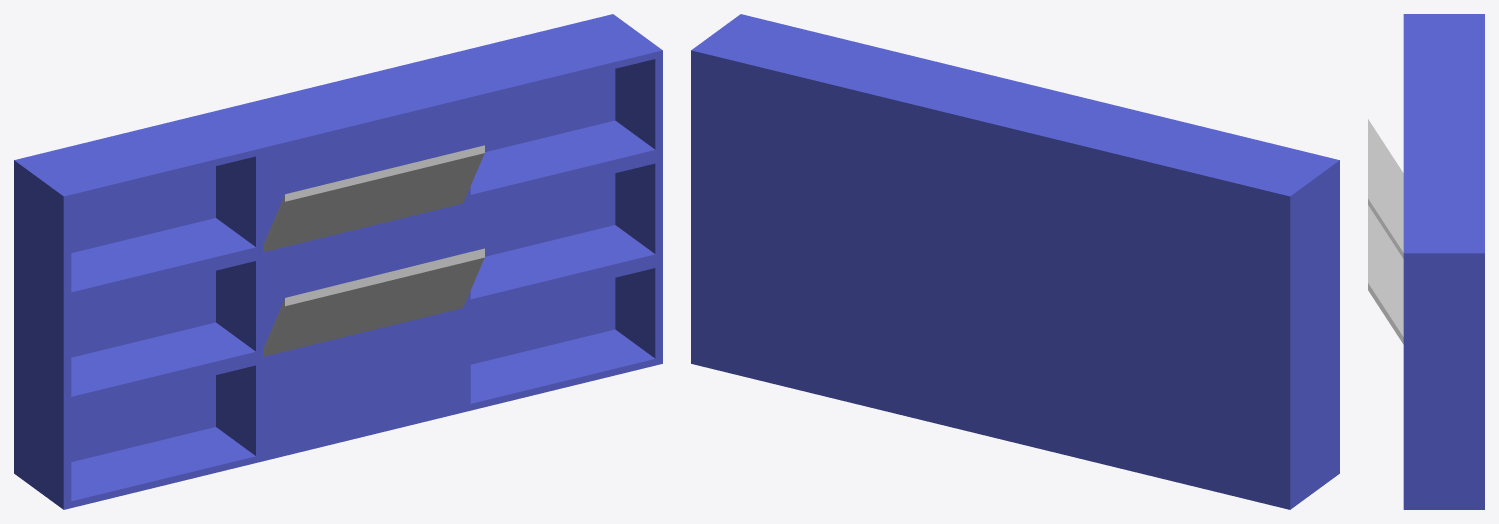
File: storeshelf.fbx
3 views of the same model, side by side, from view 1: azimuth 30°, elevation 25°; view 2: azimuth 150°, elevation 25°; view 3: azimuth 270°, elevation 25° (orthographic). The views are drawn at different scales.
Parts seen in each view (by area): view 1: Store Shelf; view 2: Store Shelf; view 3: Store Shelf.
Part boxes in pixels (x1,y1,x2,y2): Store Shelf: [14, 14, 662, 509]; Store Shelf: [691, 14, 1339, 509]; Store Shelf: [1368, 14, 1484, 509].
Size of the model in its own units: 800 by 400 by 165.
